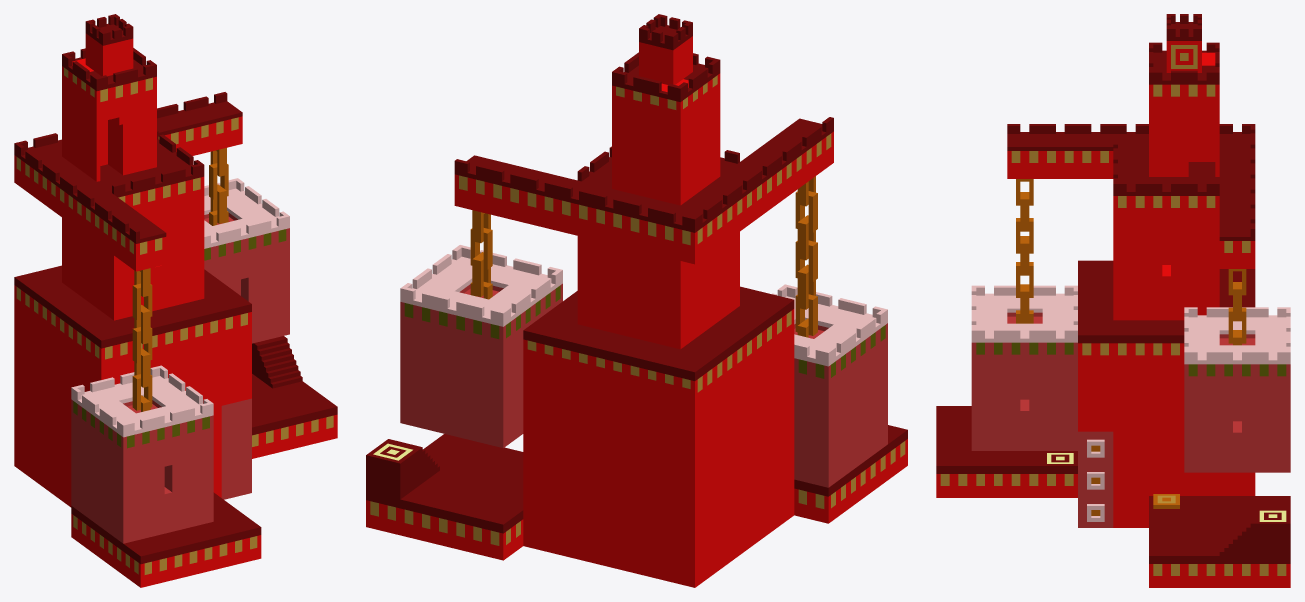
Rendered from monu1.obj.
3 renders of one model, left to right at view 1: azimuth 30°, elevation 25°; view 2: azimuth 150°, elevation 25°; view 3: azimuth 270°, elevation 25°, orthographic. The views are drawn at different scales.
Size of the model in its own units: 8 by 11.5 by 8.
